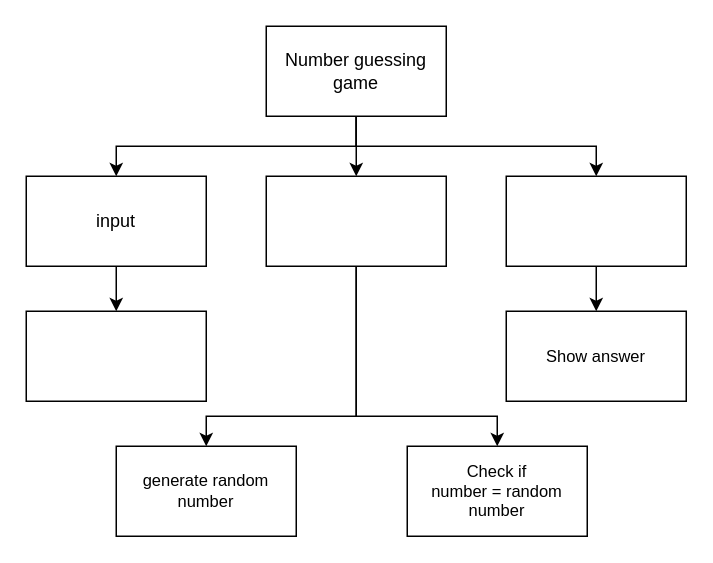
Some shapes in this 713 by 563 pixel diagram are drawn without their labels. The shapes that lost their labels are listed below. From the top down, each one's centre as x and y in pixels, then its label:
At pixel 355 220: "Process".
At pixel 595 220: "Output".
At pixel 115 355: "Get number".
